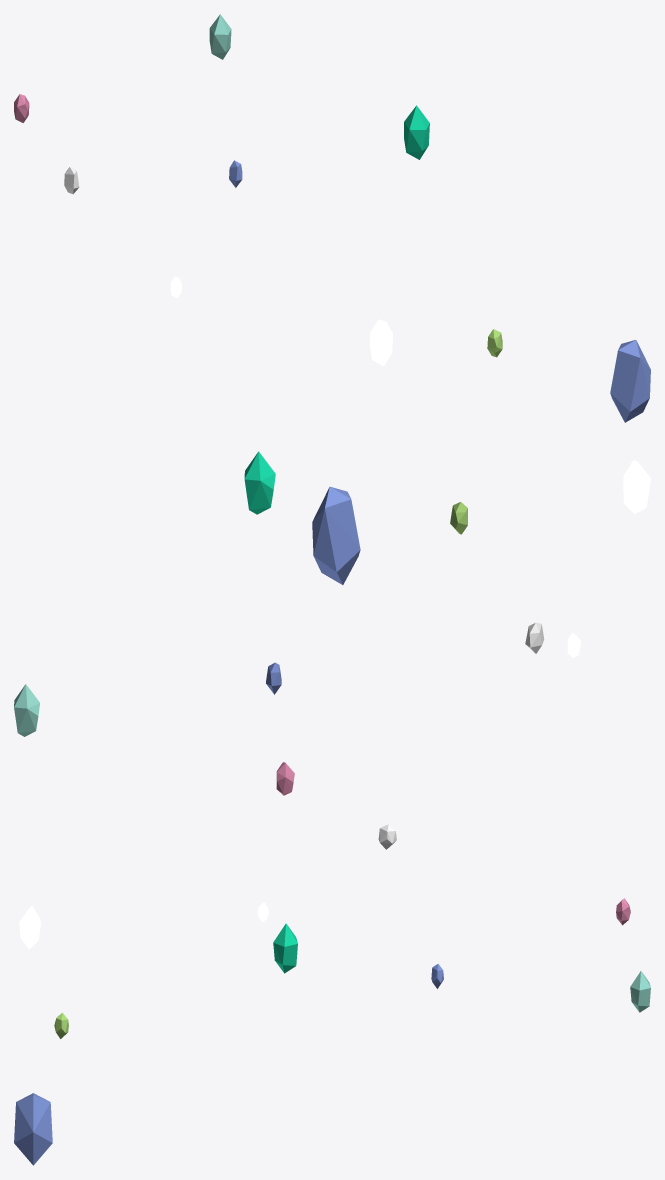
The model's file is smallcrystal.gltf.
3 views of the same model, one above another, from view 1: azimuth 30°, elevation 25°; view 2: azimuth 150°, elevation 25°; view 3: azimuth 270°, elevation 25° (orthographic). The views are drawn at different scales.
Parts seen in each view (by area): view 1: Icosphere, Icosphere.002, Icosphere.001, Icosphere.023; view 2: Icosphere, Icosphere.002, Icosphere.001, Icosphere.023; view 3: Icosphere, Icosphere.002, Icosphere.001, Icosphere.023.
Part boxes in pixels (left/top/right/bottom): Icosphere: left=610, top=340, right=650, bottom=422; Icosphere.002: left=404, top=105, right=429, bottom=159; Icosphere.001: left=370, top=319, right=392, bottom=366; Icosphere.023: left=209, top=14, right=231, bottom=59; Icosphere: left=312, top=486, right=360, bottom=584; Icosphere.002: left=244, top=451, right=275, bottom=514; Icosphere.001: left=623, top=460, right=650, bottom=514; Icosphere.023: left=14, top=684, right=39, bottom=736; Icosphere: left=14, top=1093, right=52, bottom=1165; Icosphere.002: left=273, top=923, right=297, bottom=973; Icosphere.001: left=19, top=906, right=40, bottom=949; Icosphere.023: left=630, top=971, right=650, bottom=1012.
Size of the model in its own units: 102 by 57.92 by 159.
